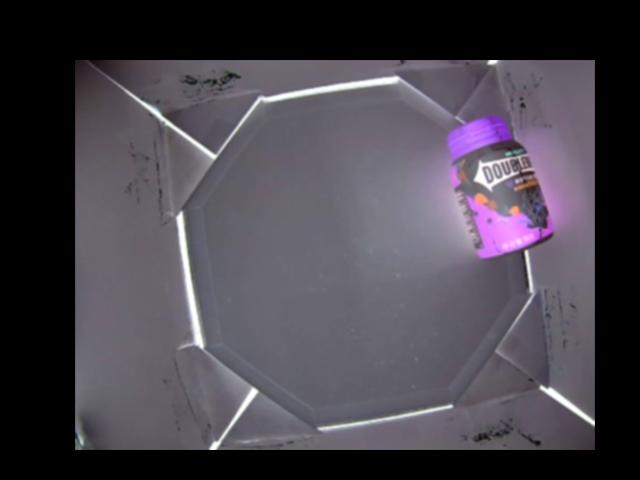Bottle: (445, 112, 557, 259)
